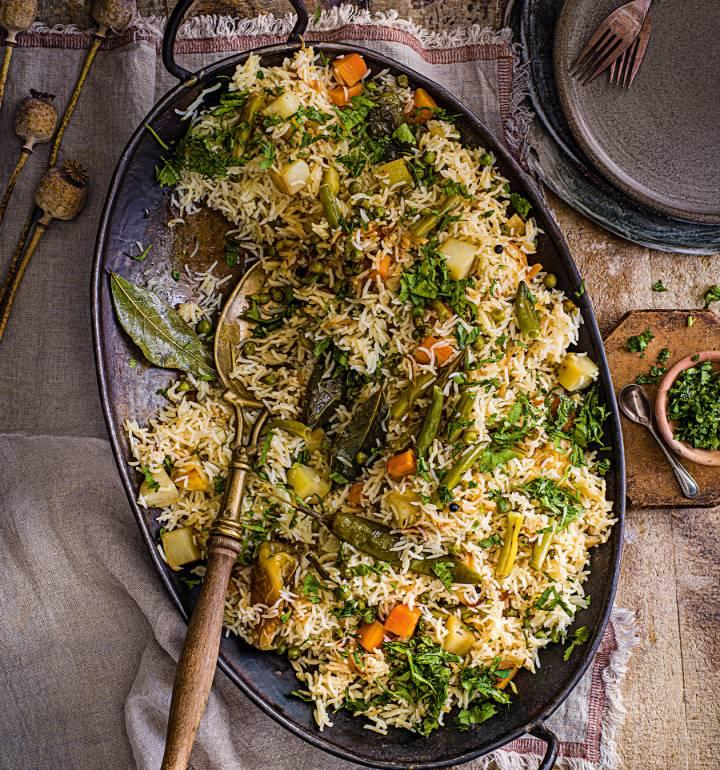veg-pulao: (165, 101, 518, 687)
